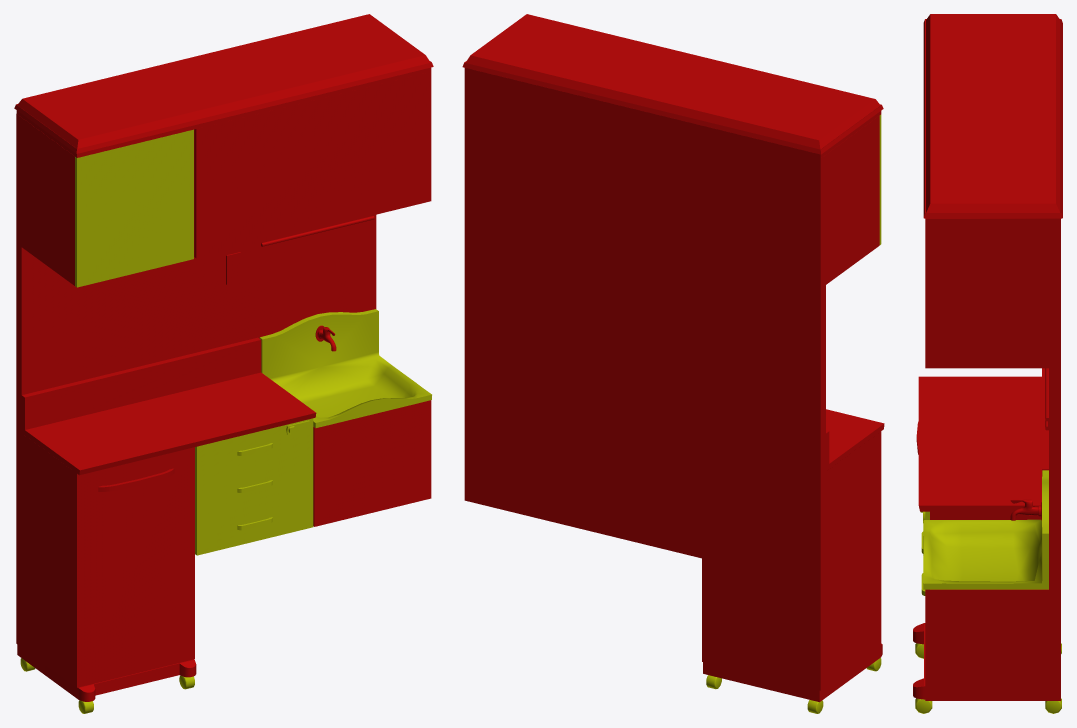
File: SM_WallShelf_01g.FBX
3 renders of one model, left to right at view 1: azimuth 30°, elevation 25°; view 2: azimuth 150°, elevation 25°; view 3: azimuth 270°, elevation 25°, orthographic. The views are drawn at different scales.
Visible parts, largest first — view 1: SM_WallShelf_01g_LOD0; view 2: SM_WallShelf_01g_LOD0; view 3: SM_WallShelf_01g_LOD0.
Part boxes in pixels (bbox=[...]): SM_WallShelf_01g_LOD0: bbox=[14, 14, 433, 713]; SM_WallShelf_01g_LOD0: bbox=[462, 14, 884, 713]; SM_WallShelf_01g_LOD0: bbox=[913, 14, 1062, 713].
Size of what is drawn, in the model's own units: 172 by 264 by 55.95.
